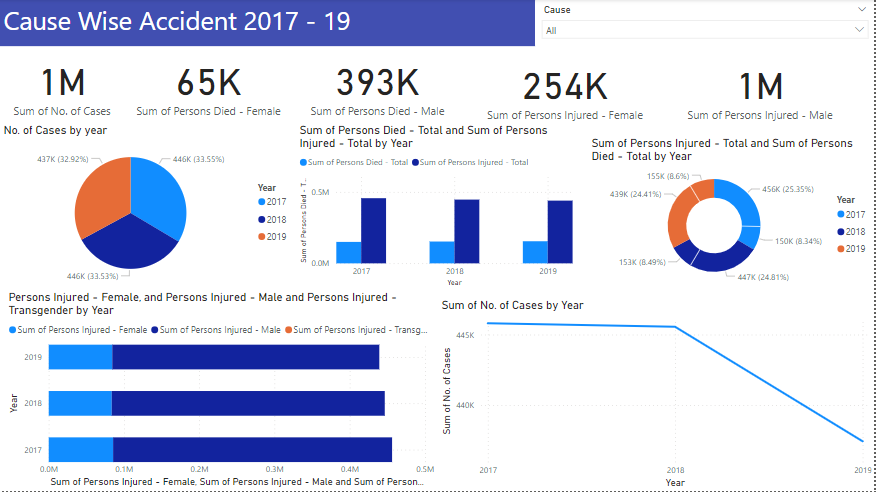

This screenshot's page, from the dashboard's own definition file:
{"tool":"powerbi","page":{"name":"Cause_wise_accident_by_cause","canvas":[1280,720],"ordinal":2},"visuals":[{"type":"clusteredBarChart","fields":{"Category":["Cause_wise_accident.Cause"],"Y":["Sum(Cause_wise_accident.No. of Cases)"]},"box":[0,319,780,401],"z":0},{"type":"slicer","fields":{"Values":["Cause_wise_accident.Year"]},"box":[816.6,0,463.9,95.1],"z":1000},{"type":"pieChart","fields":{"Y":["Sum(Cause_wise_accident.No. of Cases)"],"Category":["Cause_wise_accident.Cause"]},"box":[749.3,360,531.2,360],"z":2000},{"type":"card","fields":{"Values":["Sum(Cause_wise_accident.Percentage_of_Cases)"]},"box":[0,0,264.9,106.8],"z":3000},{"type":"card","fields":{"Values":["Avg(Cause_wise_accident.Percentage_of_Died_Female)"]},"box":[0,149.3,292.7,150.7],"z":4000},{"type":"card","fields":{"Values":["Avg(Cause_wise_accident.Percentage_of_Injured_Female)"]},"box":[509.3,0,307.3,122.9],"z":5000},{"type":"card","fields":{"Values":["Avg(Cause_wise_accident.Percentage_of_Injured_Male)"]},"box":[267.8,0,244.4,122.9],"z":6000},{"type":"card","fields":{"Values":["Avg(Cause_wise_accident.Percentage_of_Died_Male)"]},"box":[292.7,150.7,285.4,149.3],"z":7000},{"type":"tableEx","fields":{"Values":["Cause_wise_accident.Cause","Sum(Cause_wise_accident.No. of Cases)","Sum(Cause_wise_accident.Persons Injured - Total)"]},"box":[592.7,122.9,687.8,196.1],"z":8000}]}

Visuals, with their boxes in screenshot pixels (x1, y1, x2, y2), scaled from the page's 1280x720 canvas onto the 876x492 screenshot:
clusteredBarChart - Cause_wise_accident.Cause x Sum(Cause_wise_accident.No. of Cases): [x1=0, y1=218, x2=534, y2=491]
slicer - Cause_wise_accident.Year: [x1=559, y1=0, x2=875, y2=65]
pieChart - Sum(Cause_wise_accident.No. of Cases) x Cause_wise_accident.Cause: [x1=513, y1=246, x2=875, y2=491]
card - Sum(Cause_wise_accident.Percentage_of_Cases): [x1=0, y1=0, x2=181, y2=73]
card - Avg(Cause_wise_accident.Percentage_of_Died_Female): [x1=0, y1=102, x2=200, y2=205]
card - Avg(Cause_wise_accident.Percentage_of_Injured_Female): [x1=349, y1=0, x2=559, y2=84]
card - Avg(Cause_wise_accident.Percentage_of_Injured_Male): [x1=183, y1=0, x2=351, y2=84]
card - Avg(Cause_wise_accident.Percentage_of_Died_Male): [x1=200, y1=103, x2=396, y2=205]
tableEx - Cause_wise_accident.Cause x Sum(Cause_wise_accident.No. of Cases): [x1=406, y1=84, x2=875, y2=218]
